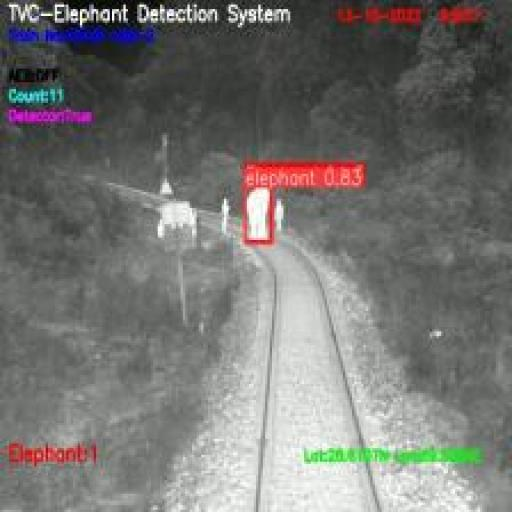Elephant: (245, 188, 272, 244)
